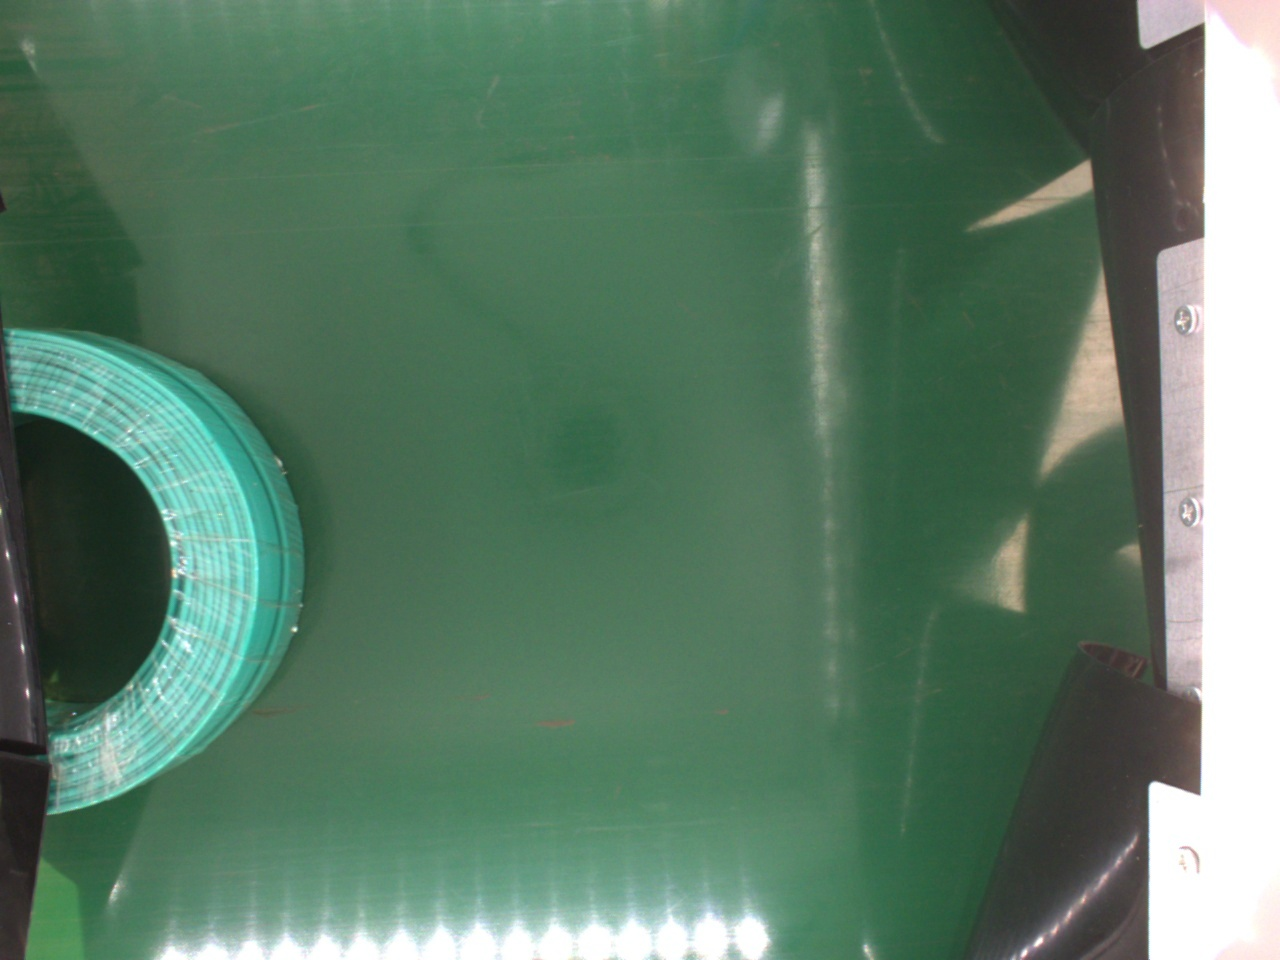green: (5, 324, 305, 818)
